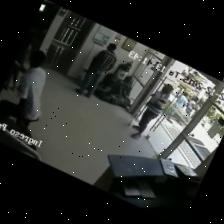person: (0, 50, 45, 137), (130, 84, 172, 139), (74, 43, 116, 97), (3, 65, 18, 90), (185, 97, 197, 116), (175, 92, 187, 107)
